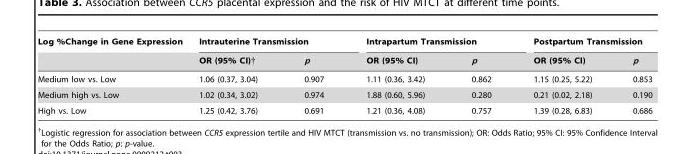table: (37, 36, 651, 114)
table column: (37, 36, 190, 114), (344, 36, 447, 114), (511, 36, 611, 114), (190, 36, 279, 114), (279, 36, 344, 114), (447, 36, 511, 114), (611, 36, 651, 114)
table column header: (37, 36, 651, 69)
table row: (37, 50, 651, 69), (37, 69, 651, 86), (37, 86, 651, 102), (37, 36, 651, 50), (37, 102, 651, 114)
table spanning cell: (37, 36, 190, 69), (344, 36, 511, 50), (190, 36, 344, 50), (511, 36, 651, 50)
